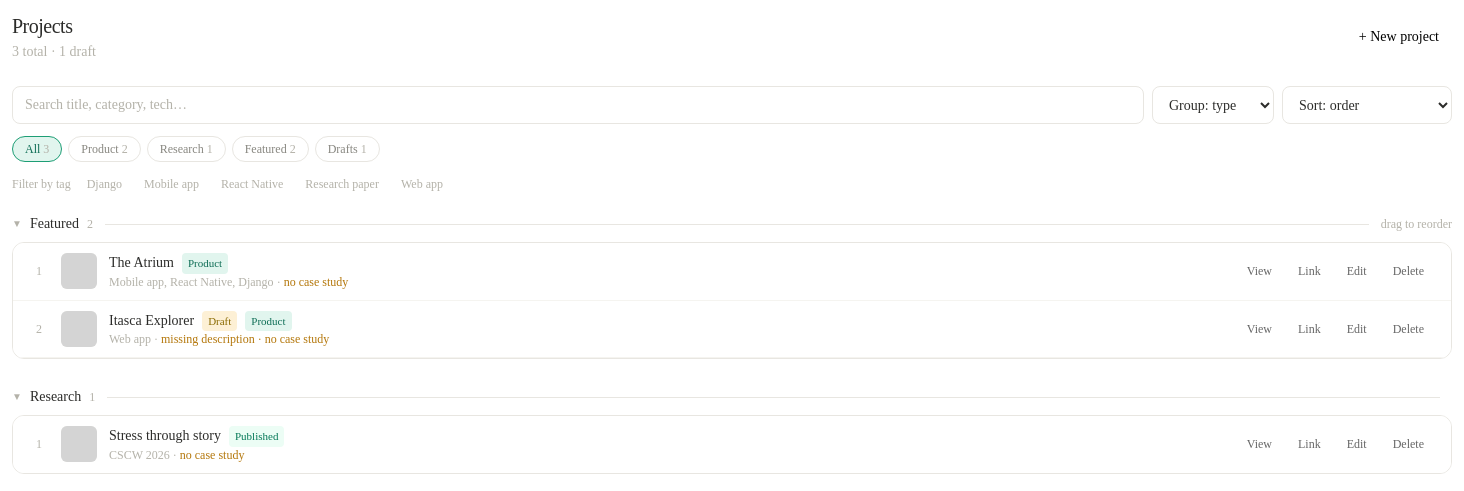
ProjectsTab › filters to drafts from the chip bar
Expected: the text "The Atrium" is shown, [109,253,174,273]
Click the button "Drafts 1".
click(347, 149)  # box [315,136,380,162]
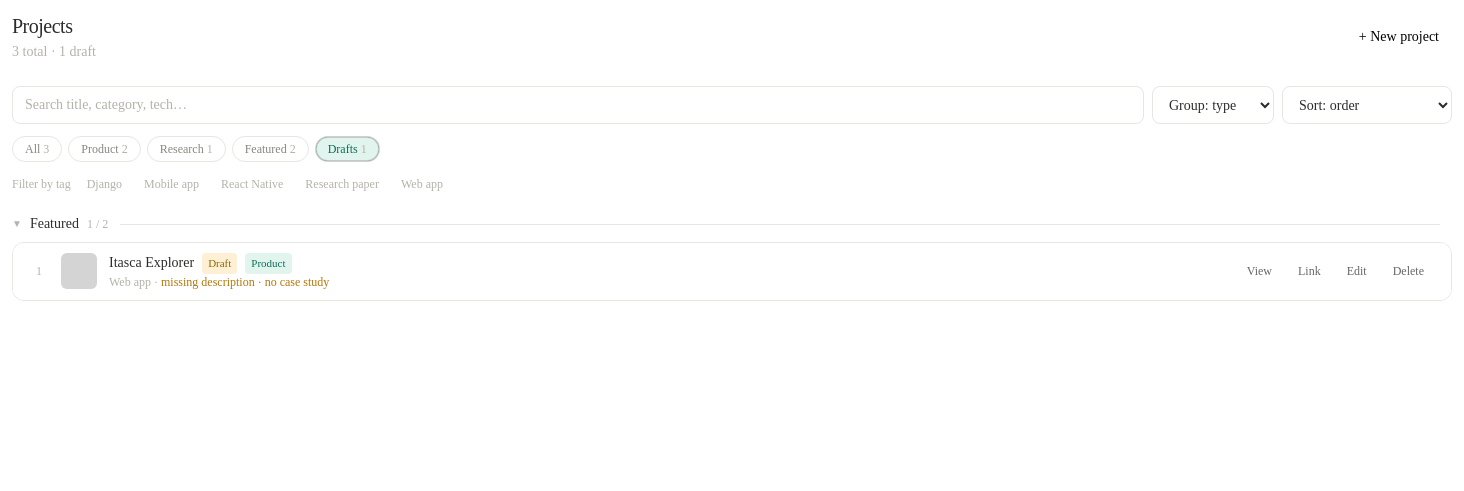
Expected: the text "Itasca Explorer" is shown, [109,253,194,273]
Expected: the text "The Atrium" is gone
